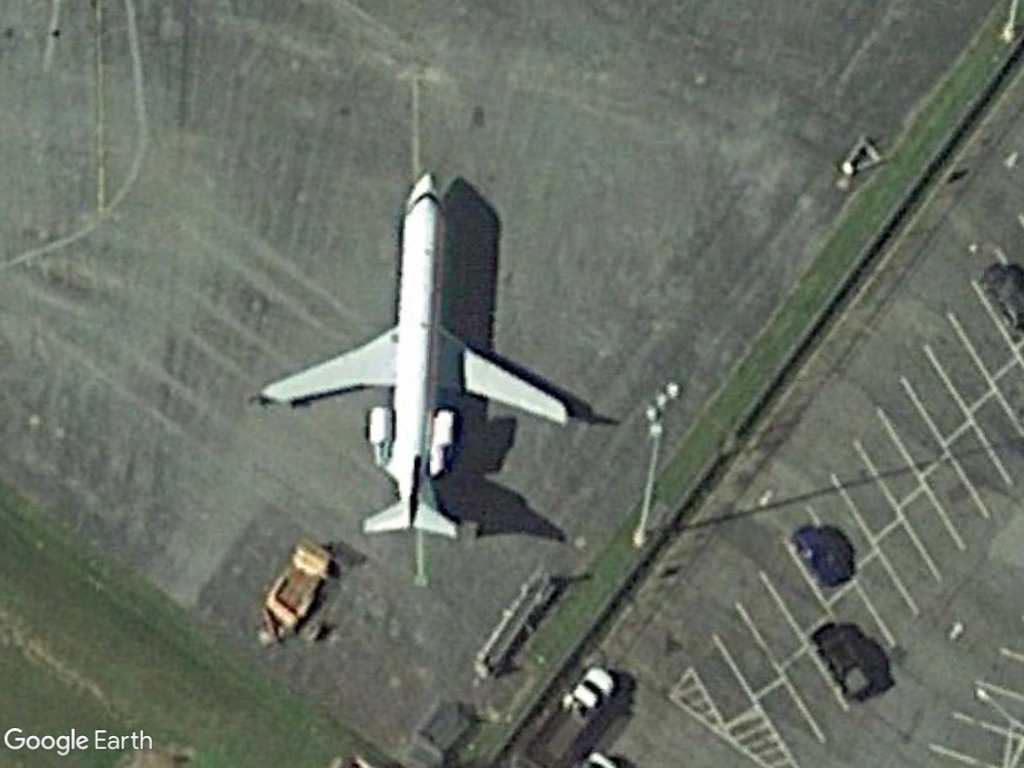chartered: (238, 164, 586, 552)
